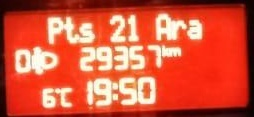0: (137, 74, 155, 106), (14, 46, 30, 74)
1: (127, 13, 141, 41), (84, 76, 92, 107)
2: (109, 13, 125, 43), (77, 45, 94, 72)
3: (113, 44, 128, 71)
5: (117, 75, 136, 107), (128, 42, 143, 68)
6: (39, 86, 55, 109)
7: (146, 41, 162, 67)
9: (92, 76, 111, 107), (96, 44, 113, 71)
X: (153, 11, 171, 41), (45, 15, 62, 44), (62, 14, 78, 44), (187, 17, 203, 41), (79, 19, 95, 42), (171, 17, 186, 39), (60, 84, 72, 108), (111, 78, 118, 102), (169, 45, 181, 56), (162, 43, 169, 57)
